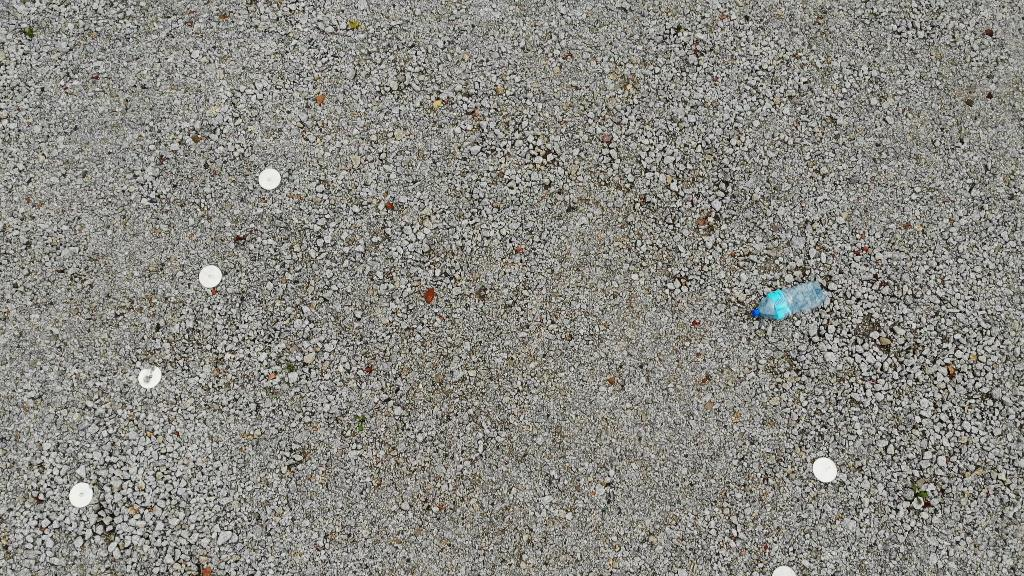garbage: (752, 277, 826, 325)
